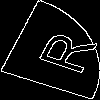R: (25, 25, 99, 77)
